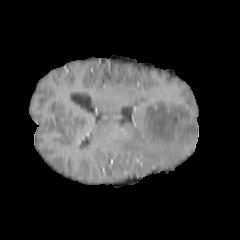glioma: (119, 106, 197, 173)
